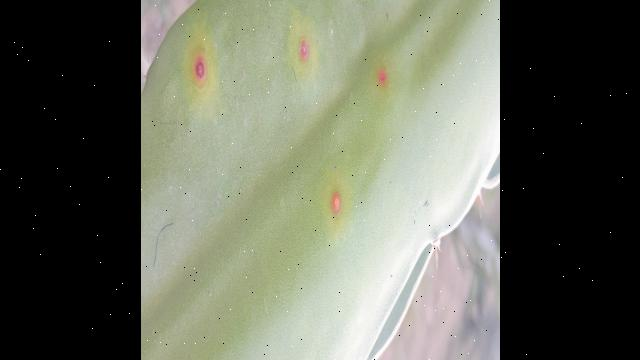stemcanker: (182, 35, 223, 97), (321, 173, 353, 229), (288, 24, 322, 76), (366, 57, 400, 103)
